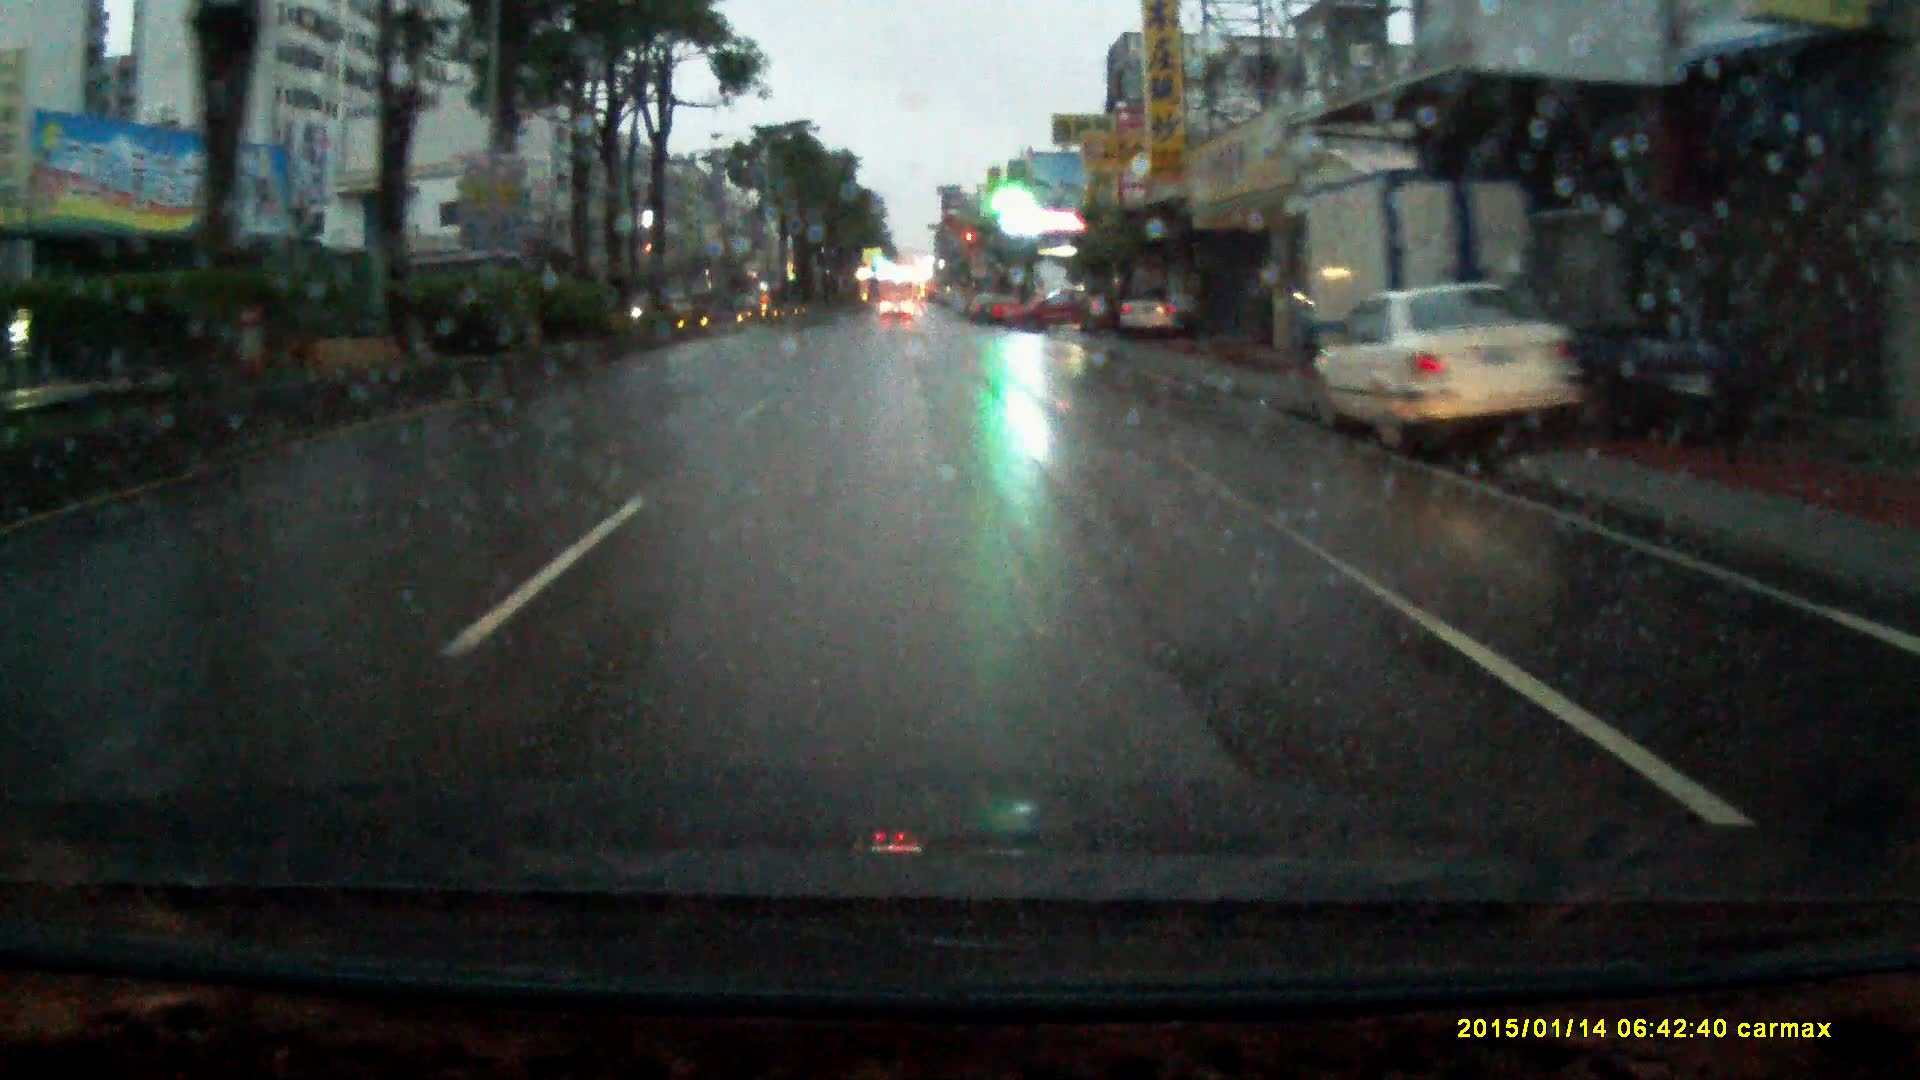vehicle: (1280, 146, 1588, 402), (1561, 210, 1809, 440), (1302, 287, 1604, 458), (1004, 290, 1100, 339), (1105, 291, 1180, 342), (881, 299, 913, 327)
